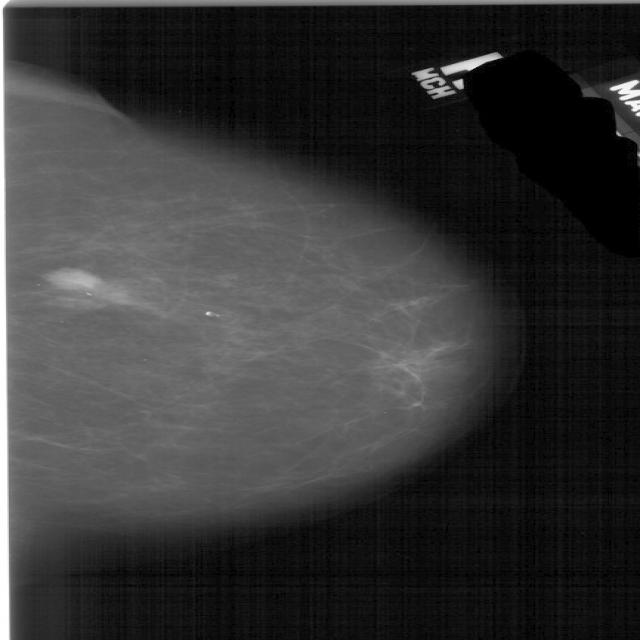tumour: (43, 267, 100, 292)
